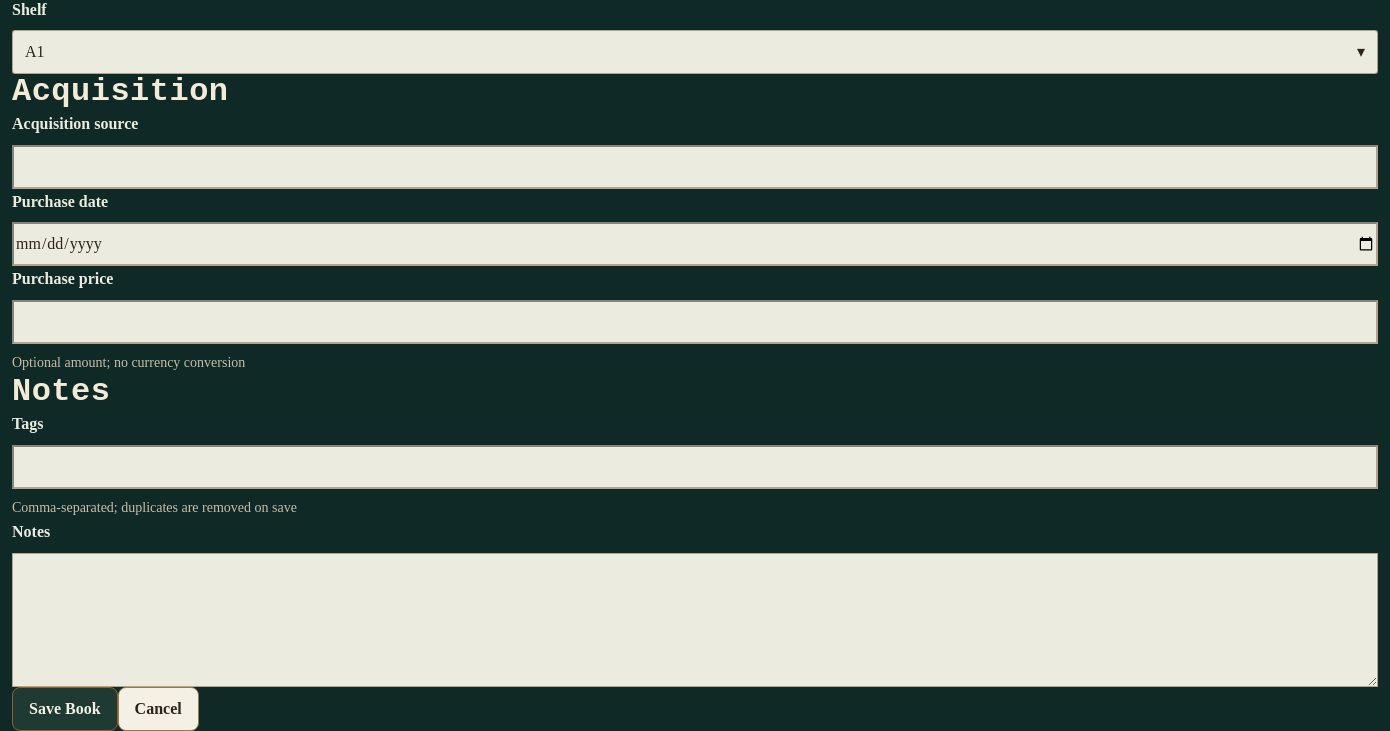
it: BookForm › rejects an empty title with a field and summary error
(page scrolled)
Click the button "Save Book": x=65, y=709 top-left (12, 687), bottom-right (118, 730)
(page scrolled)
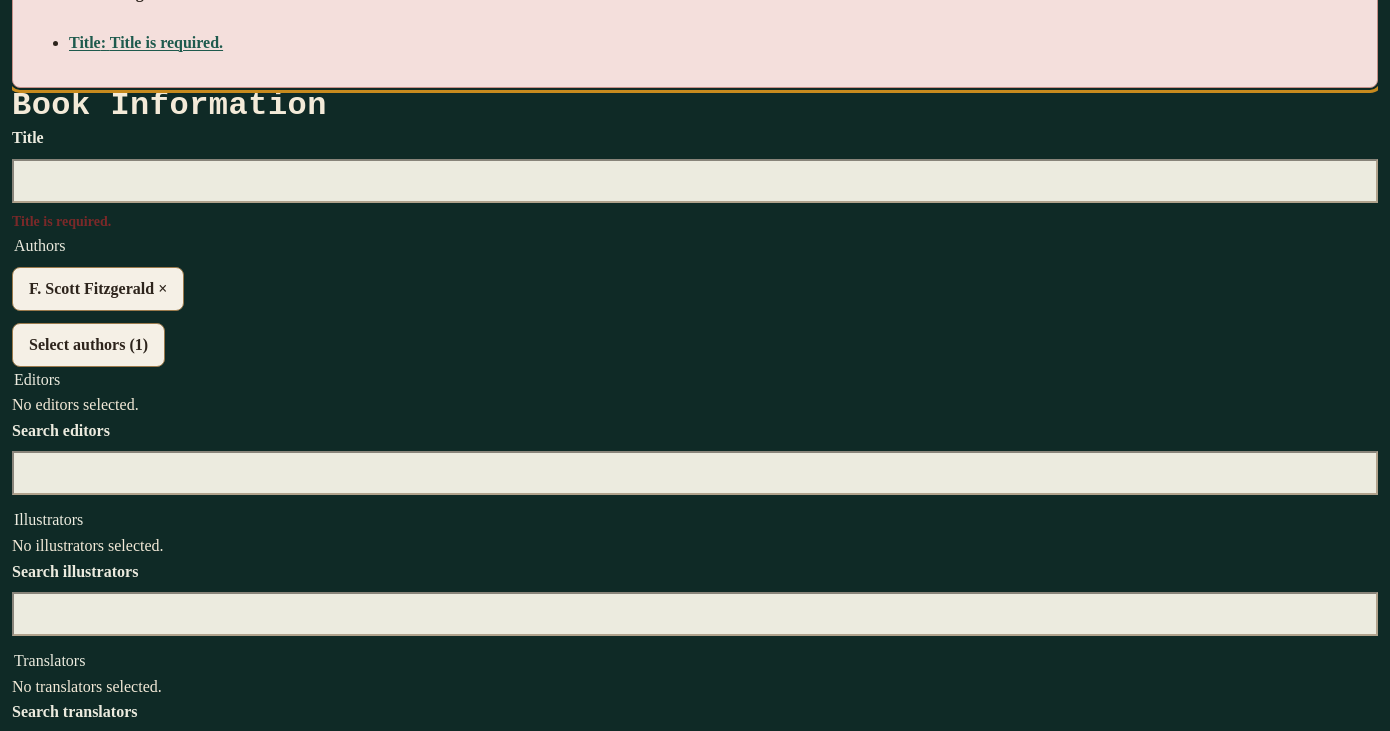
Now the message shows "Title is required.", box top-left (69, 34), bottom-right (223, 51)
